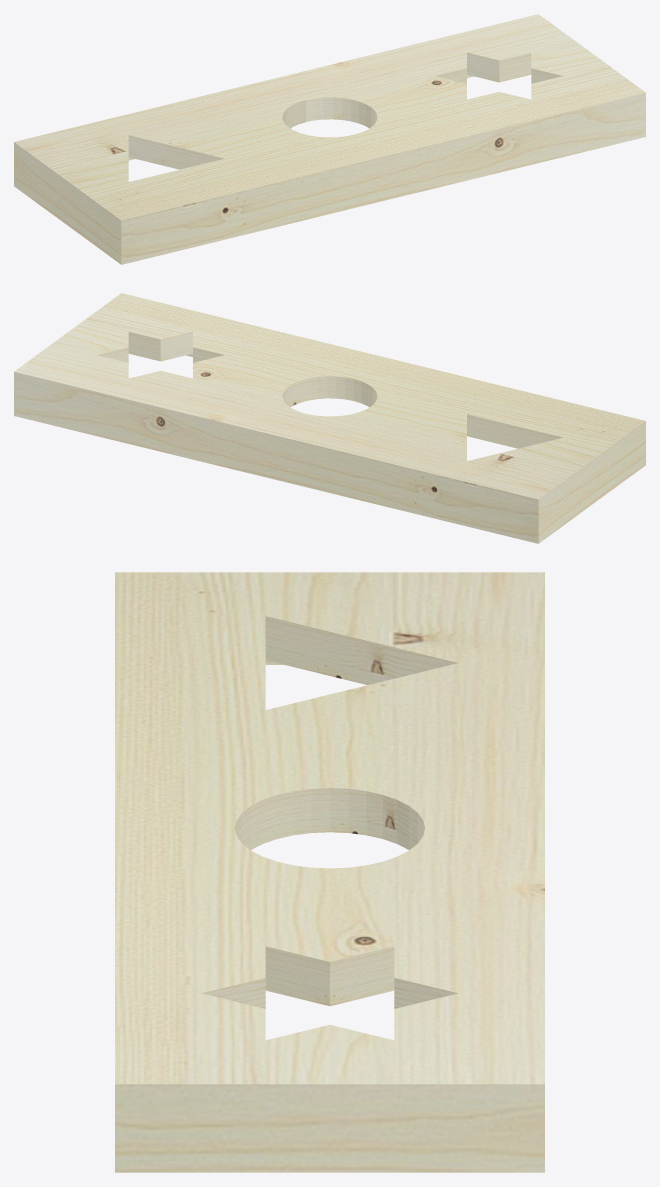
Rendered from lid02.glb.
The picture shows the model from 3 angles, top to bottom: view 1: azimuth 30°, elevation 25°; view 2: azimuth 150°, elevation 25°; view 3: azimuth 270°, elevation 25°; orthographic projection. The views are drawn at different scales.
Visible parts, largest first — view 1: Lid.008; view 2: Lid.008; view 3: Lid.008.
Boxes of the visible parts, x1,y1,x2,y2 form: Lid.008: (14, 14, 645, 264); Lid.008: (14, 293, 645, 543); Lid.008: (115, 572, 544, 1172).
Size of the model in its own units: 6.2 by 0.5 by 2.2.
1 material, 1 textured.
